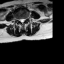CCS_normal: (21, 16, 23, 25)
LFS_stenosis: (25, 15, 27, 21)
LLS_normal: (23, 16, 25, 23)
RFS_stenosis: (16, 16, 19, 22)
RLS_normal: (19, 16, 21, 23)
